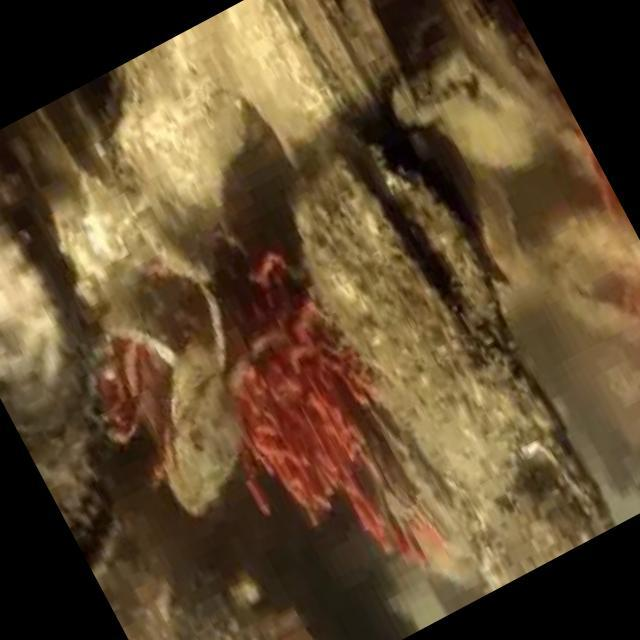Oyster- Indeterminate: (0, 136, 89, 505)
Oyster-Closed: (296, 140, 602, 588)
Oyster-Open: (63, 482, 123, 585)
